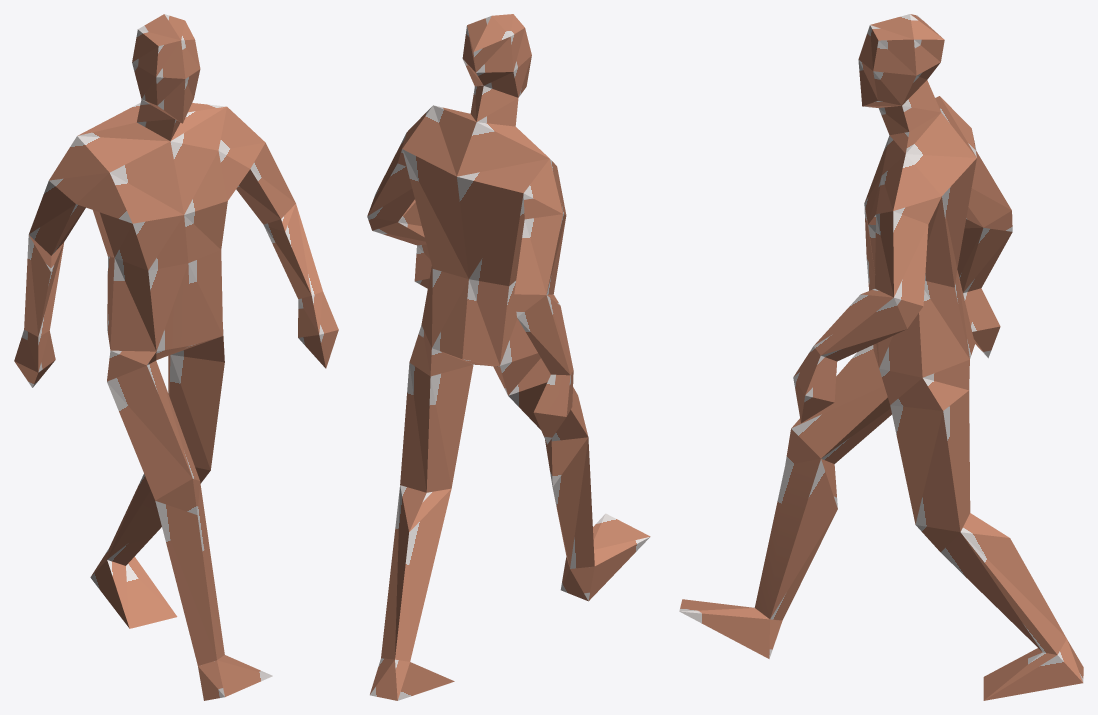
3 renders of one model, left to right at view 1: azimuth 30°, elevation 25°; view 2: azimuth 150°, elevation 25°; view 3: azimuth 270°, elevation 25°, orthographic. The views are drawn at different scales.
Visible parts, largest first — view 1: Default; view 2: Default; view 3: Default.
Part boxes in pixels (left/top/right/bottom): Default: left=14, top=14, right=338, bottom=700; Default: left=367, top=14, right=650, bottom=700; Default: left=679, top=14, right=1083, bottom=700.
Bounding box in the file's own units: 0.8258 × 2.14 × 1.18.
